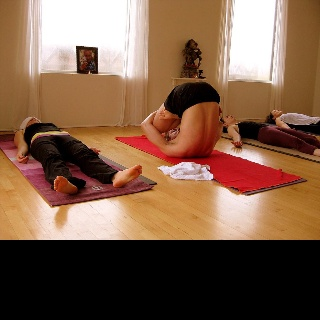without_mask: (164, 125, 182, 141), (224, 113, 237, 127), (26, 116, 41, 126), (272, 109, 284, 120)
